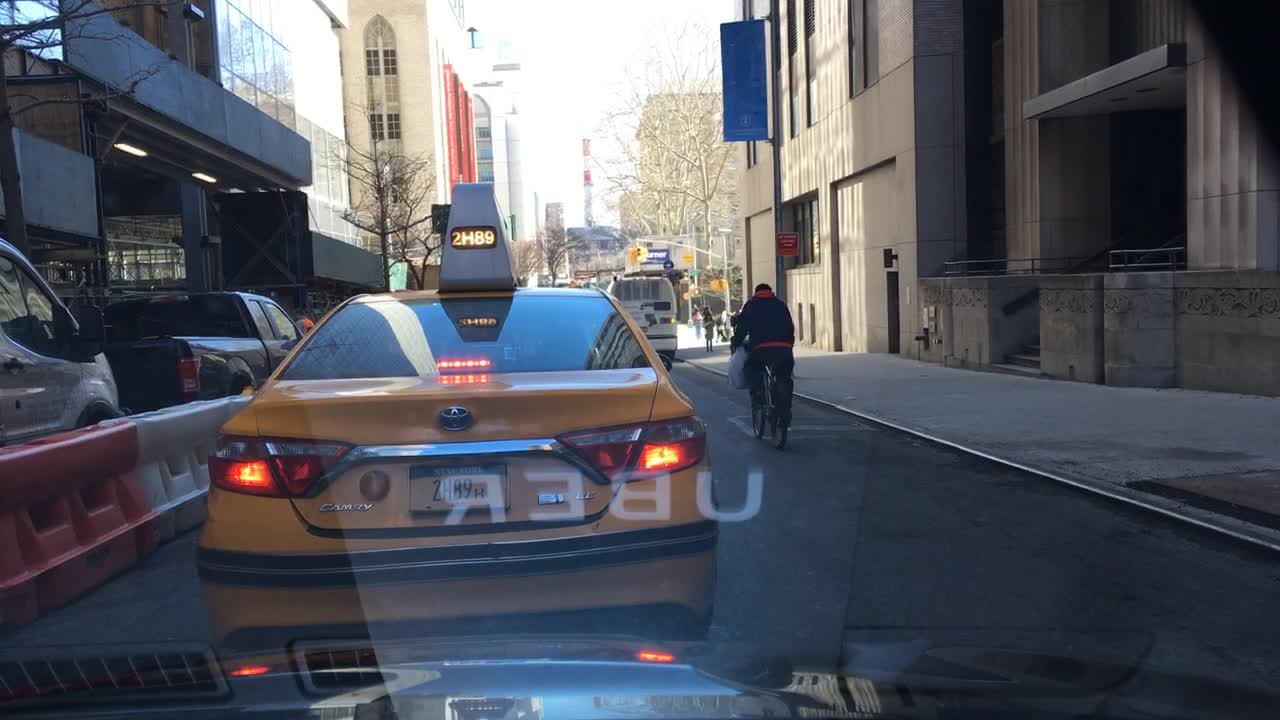bike: (742, 357, 804, 451)
car: (190, 181, 724, 647), (0, 232, 119, 445), (104, 284, 304, 403), (607, 271, 680, 368)
person: (700, 302, 717, 352), (689, 302, 704, 337)
rider: (726, 280, 799, 427)
